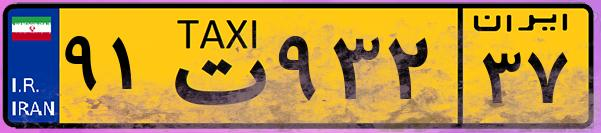1: (110, 28, 158, 98)
2: (385, 28, 445, 110)
3: (330, 28, 385, 110), (475, 38, 525, 113)
7: (525, 38, 570, 115)
9: (270, 28, 330, 110), (57, 26, 110, 100)
ت: (158, 12, 270, 120)
